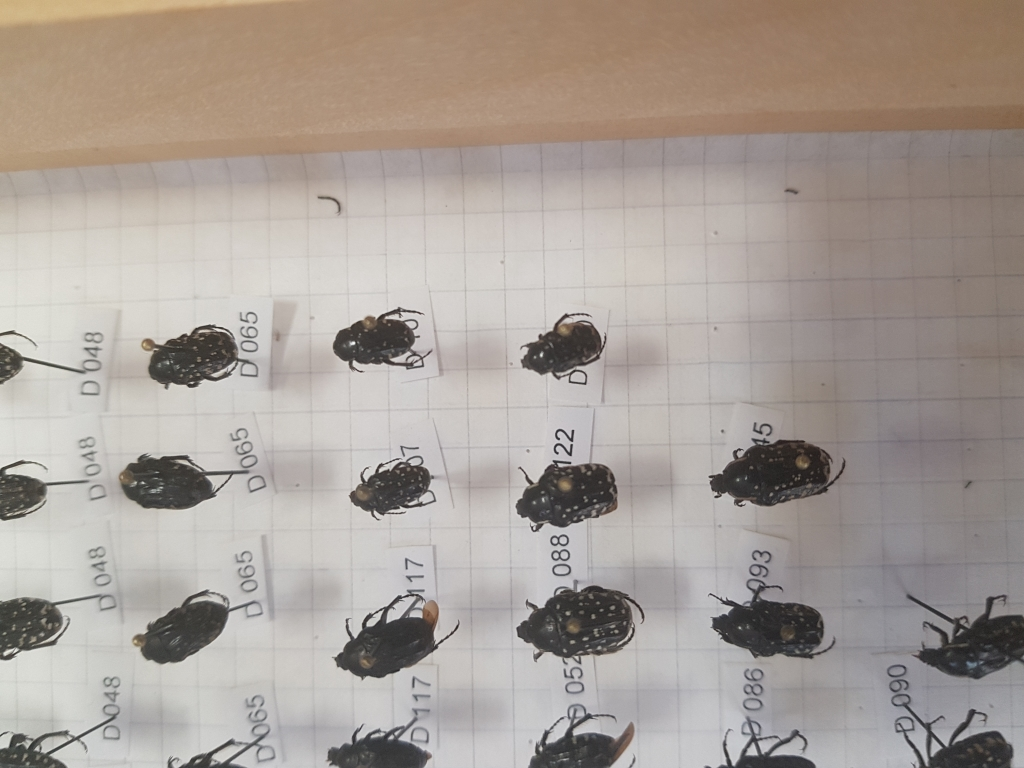Oxythyrea_cinctella: (519, 586, 649, 667), (331, 294, 427, 378), (142, 321, 246, 394), (347, 459, 432, 514)
